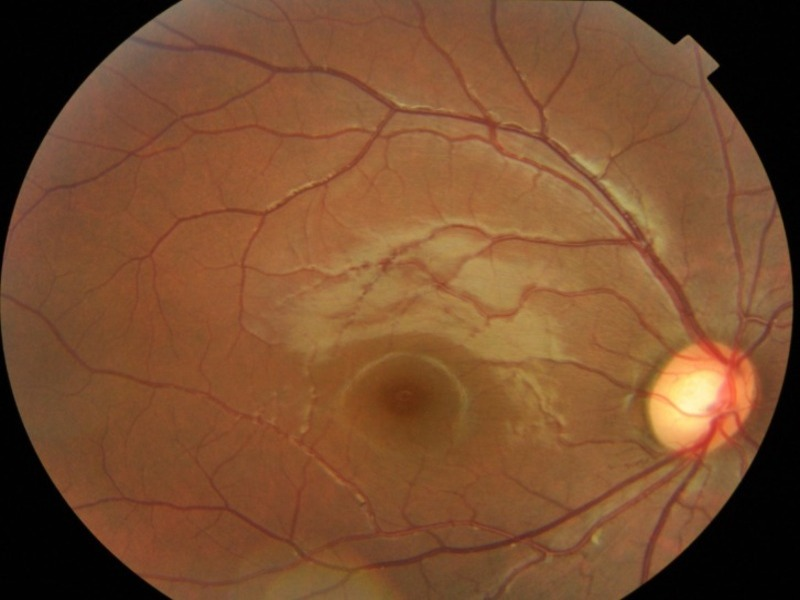Optic Cup: (674, 371, 722, 424)
Optic Disc: (643, 342, 754, 457)
